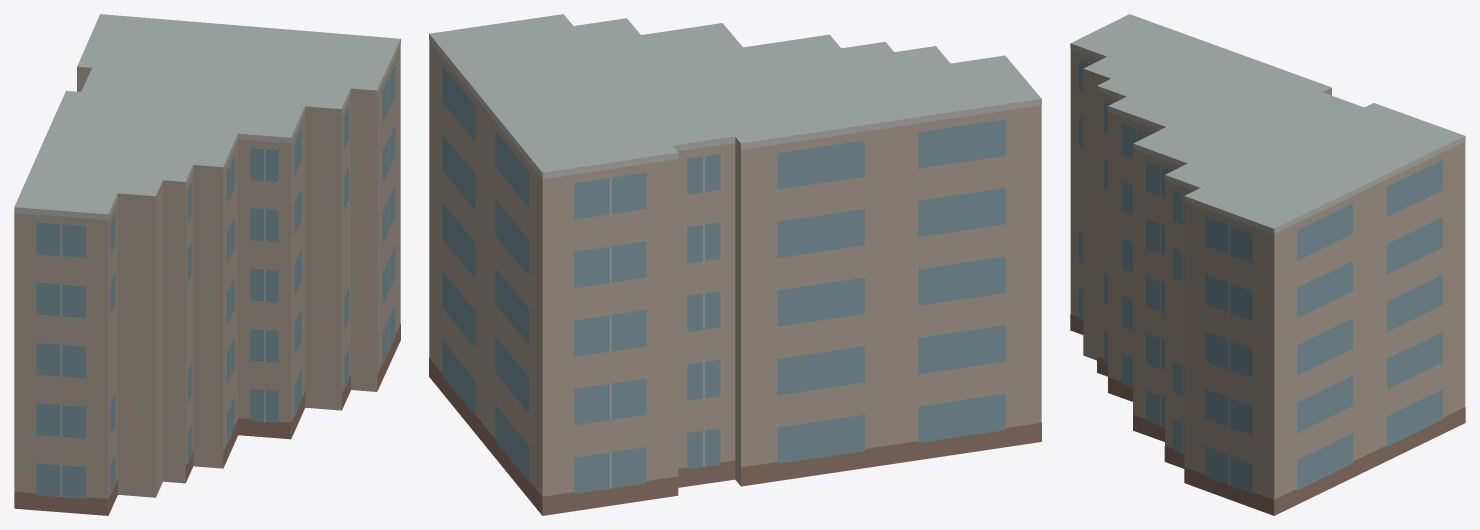
The model's file is survey-upis-33037921.glb.
3 views of the same model, side by side, from view 1: azimuth 30°, elevation 25°; view 2: azimuth 150°, elevation 25°; view 3: azimuth 270°, elevation 25° (orthographic). The views are drawn at different scales.
Visible parts, largest first — view 1: survey-upis-33037921.tmp; view 2: survey-upis-33037921.tmp; view 3: survey-upis-33037921.tmp.
Boxes of the visible parts, left/top/right/bottom form: survey-upis-33037921.tmp: left=14, top=14, right=400, bottom=515; survey-upis-33037921.tmp: left=429, top=14, right=1041, bottom=515; survey-upis-33037921.tmp: left=1070, top=14, right=1465, bottom=515.
Bounding box in the file's own units: 20.88 × 13 × 16.22.
